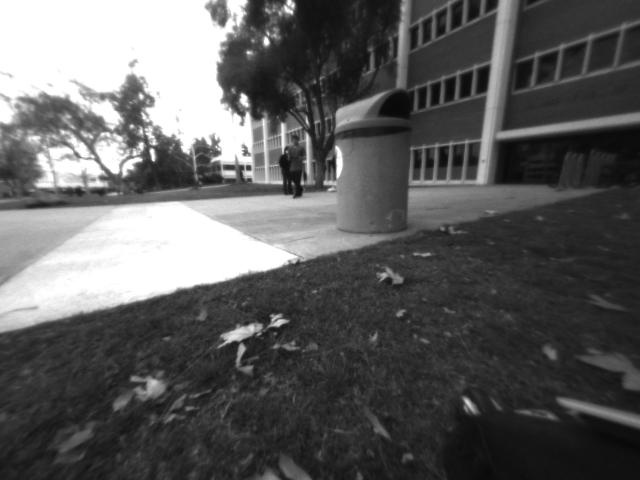trashcan: (325, 79, 423, 241)
